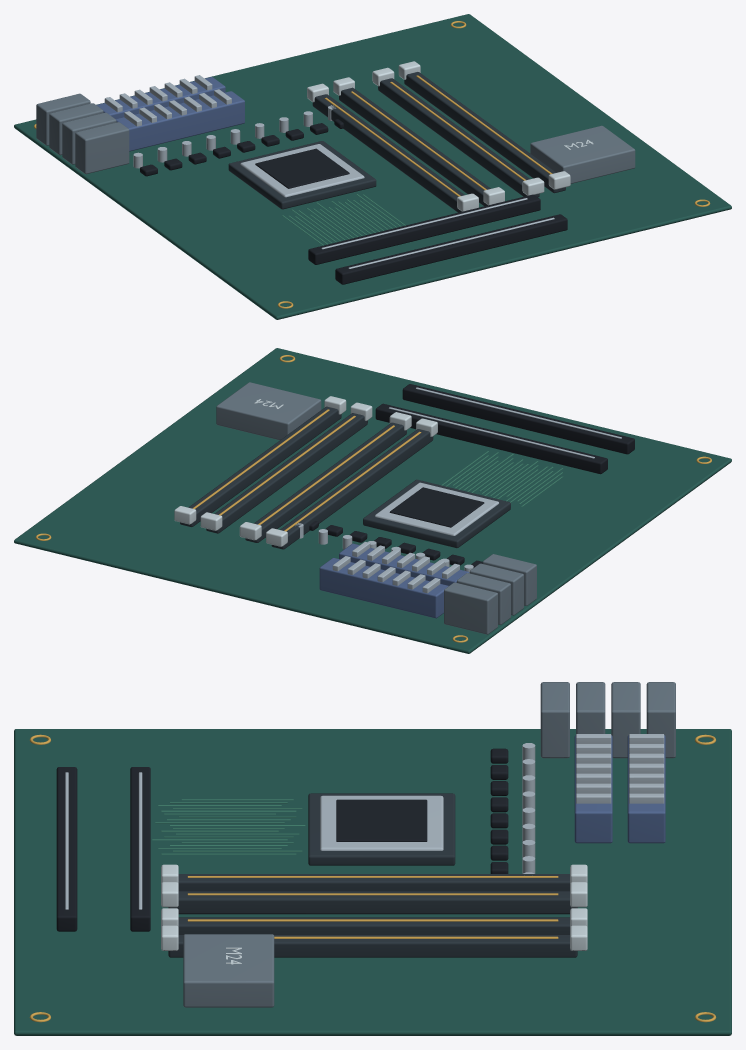
The picture shows the model from 3 angles, top to bottom: view 1: azimuth 30°, elevation 25°; view 2: azimuth 150°, elevation 25°; view 3: azimuth 270°, elevation 25°; orthographic projection. The views are drawn at different scales.
Visible parts, largest first — view 1: m24 housing; view 2: m24 housing; view 3: m24 housing.
Part boxes in pixels (box(x1,y1,x2,y2)): m24 housing: box(14, 14, 731, 319); m24 housing: box(14, 348, 731, 653); m24 housing: box(14, 682, 731, 1035).
Bounding box in the file's own units: 244 × 20 × 244.
